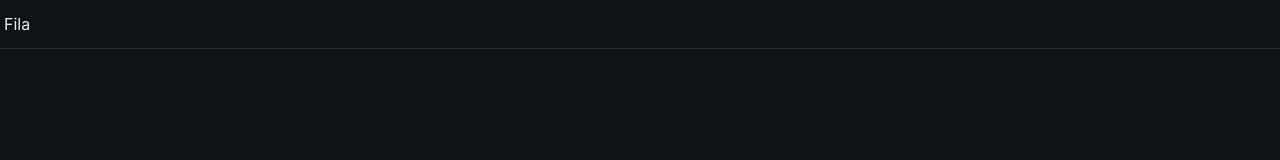
Test: SwipeableRow › muestra la acción mientras se arrastra
This screenshot has width=1280, height=160.
Press the mouse on the list item at (640, 24), box [0,0,1279,49]
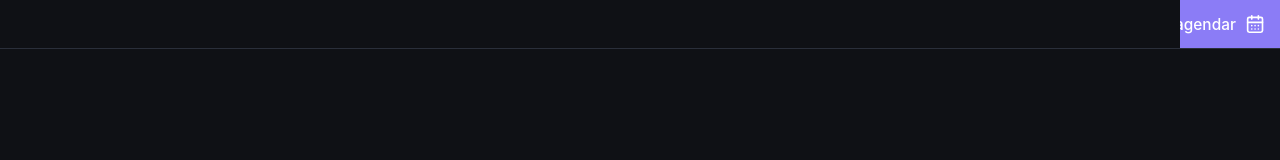
Expected: the text "Reagendar" is shown, [1156,13,1265,35]
